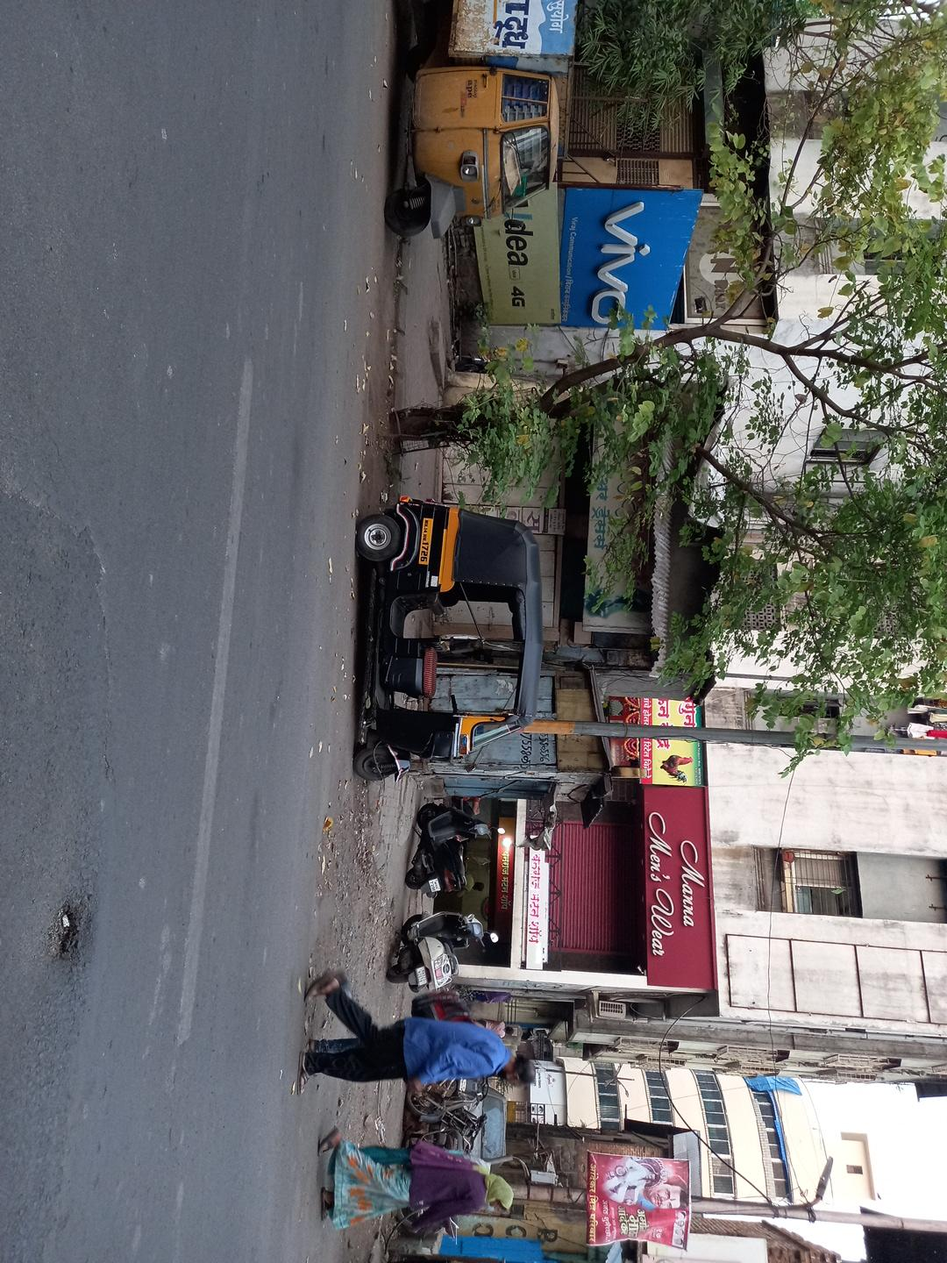Non-emergency: (273, 441, 594, 818)
